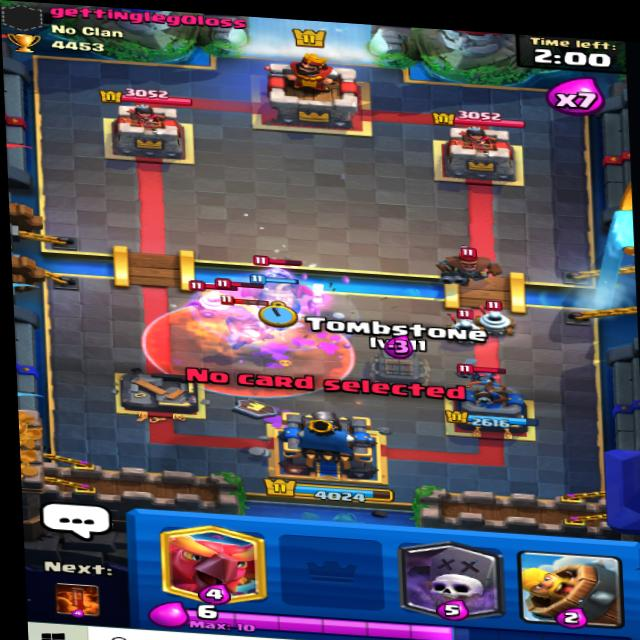dark-prince: (218, 301, 286, 363)
hunter: (434, 233, 501, 287)
inferno-dragon: (248, 255, 315, 315)
mini-pekka: (454, 354, 510, 388)
zappie: (182, 274, 245, 317), (439, 301, 497, 341), (466, 301, 526, 333)
